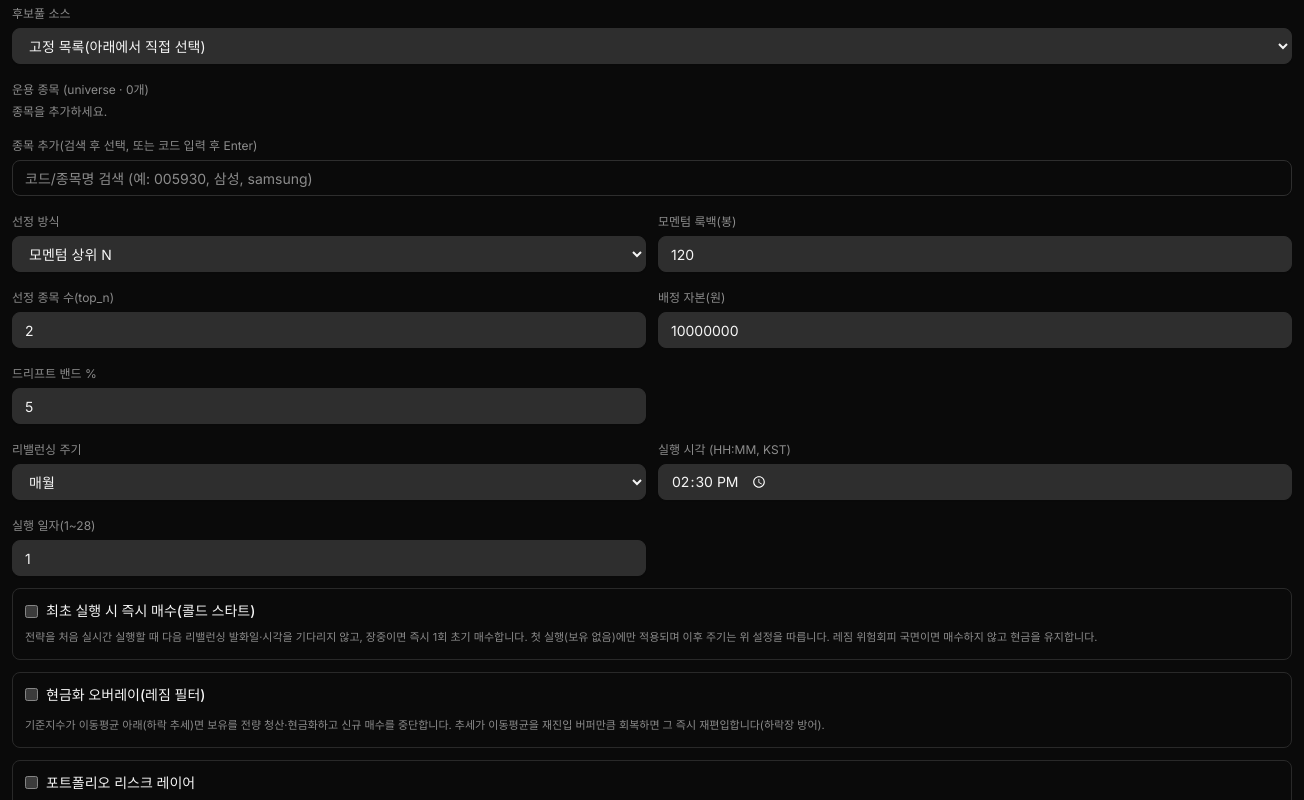
Test case: RebalanceFields — 종목 추가(append) 입력 › Enter 로 완성된 코드를 확정하면 universe 에 정확히 1개만 추가된다
Type "005930" into the field with placeholder "코드/종목명 검색 (예: 005930, 삼성, samsung)" at (652, 178), box [12, 160, 1292, 196]
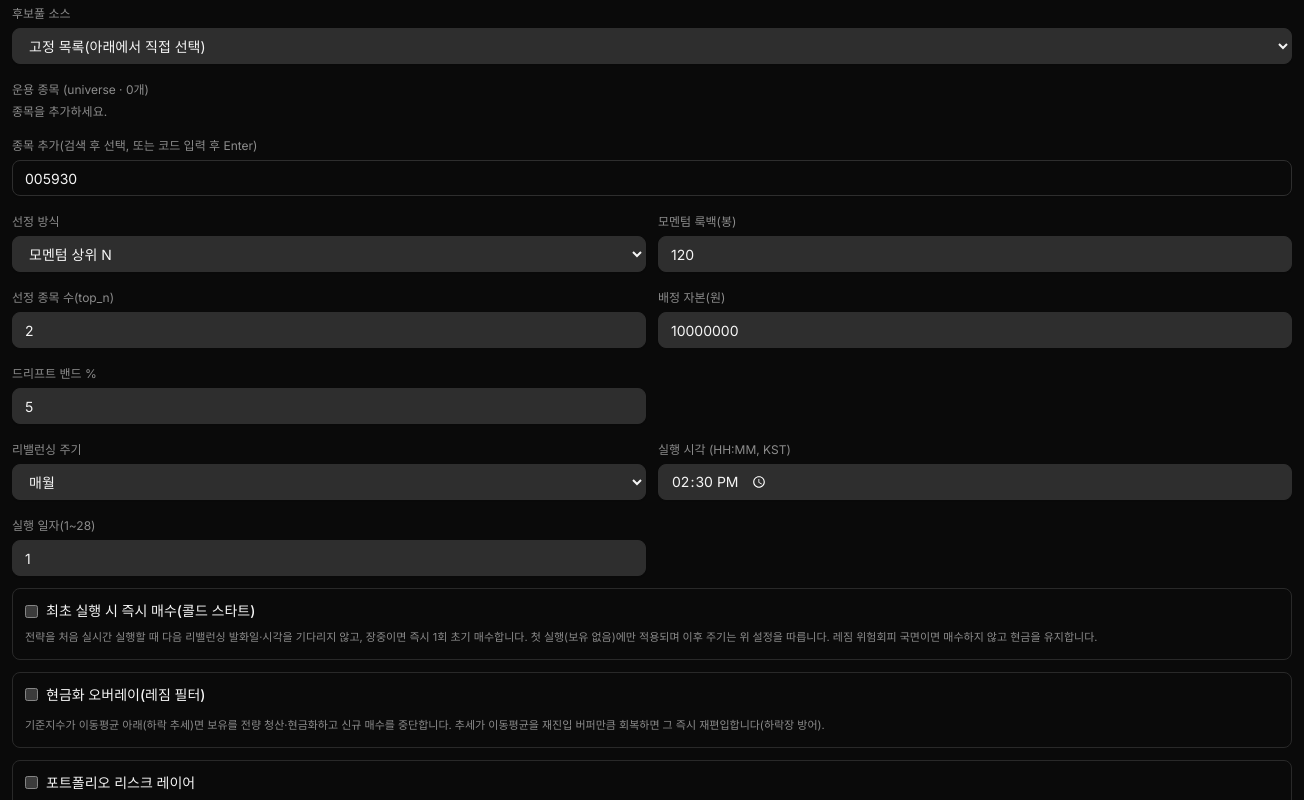
Press Enter in the field with placeholder "코드/종목명 검색 (예: 005930, 삼성, samsung)", box [12, 160, 1292, 196]
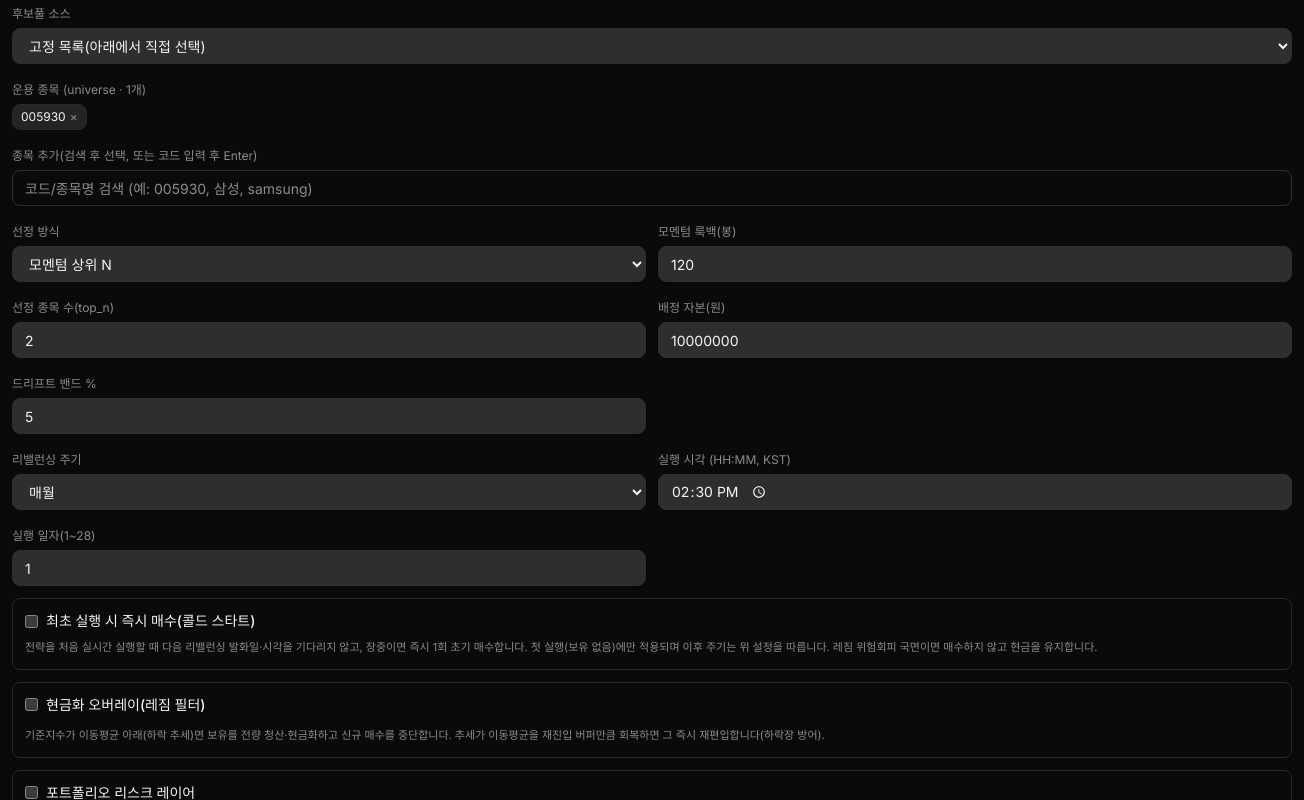
Expected: the text "운용 종목 (universe · 1개)" is shown, [12, 82, 146, 97]
Expected: the text "005930" is shown, [21, 109, 66, 124]
